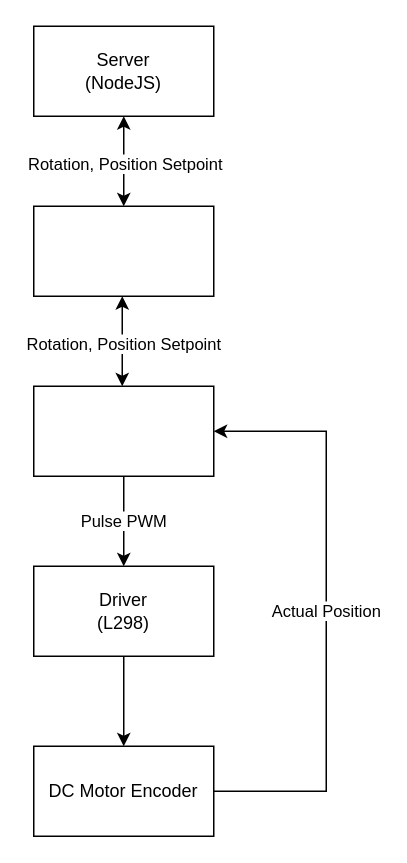
Image size: 407x863. Some labels were removed from this diagram. Here are the shapes that lost their labels. From the top down, the centre of each, then its label:
[123,250]: Firebase Realtime Database
[123,430]: Khối xử lý (ESP32)
